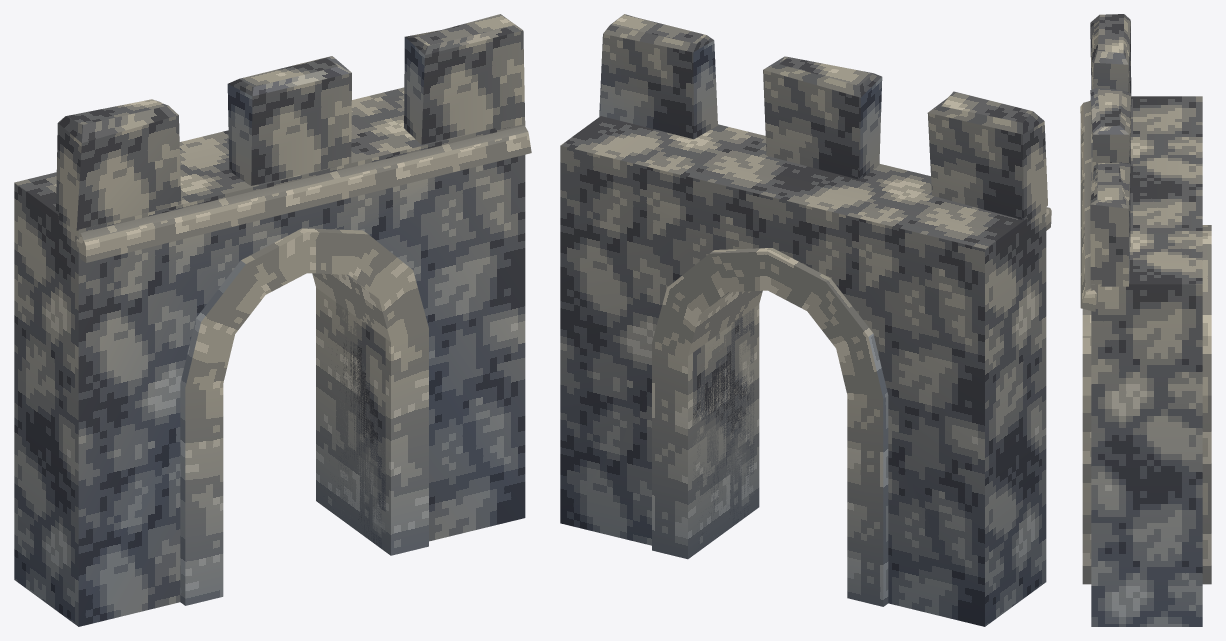
The model's file is vlg.wall__postern.glb.
3 views of the same model, side by side, from view 1: azimuth 30°, elevation 25°; view 2: azimuth 150°, elevation 25°; view 3: azimuth 270°, elevation 25° (orthographic). The views are drawn at different scales.
Parts seen in each view (by area): view 1: kit_wall, kit_top, kit_fittings; view 2: kit_wall, kit_fittings, kit_top; view 3: kit_wall, kit_top, kit_fittings.
Boxes of the visible parts, left/top/right/bottom form: kit_wall: left=14, top=87, right=525, bottom=626; kit_top: left=56, top=14, right=531, bottom=262; kit_fittings: left=180, top=228, right=428, bottom=605; kit_wall: left=560, top=116, right=1046, bottom=626; kit_fittings: left=652, top=248, right=888, bottom=606; kit_top: left=599, top=14, right=1051, bottom=230; kit_wall: left=1091, top=96, right=1202, bottom=626; kit_top: left=1080, top=14, right=1131, bottom=311; kit_fittings: left=1082, top=225, right=1211, bottom=584.
Size of the model in its own units: 4.03 by 4.25 by 1.18.
Materials: 2 (2 with a texture image).
